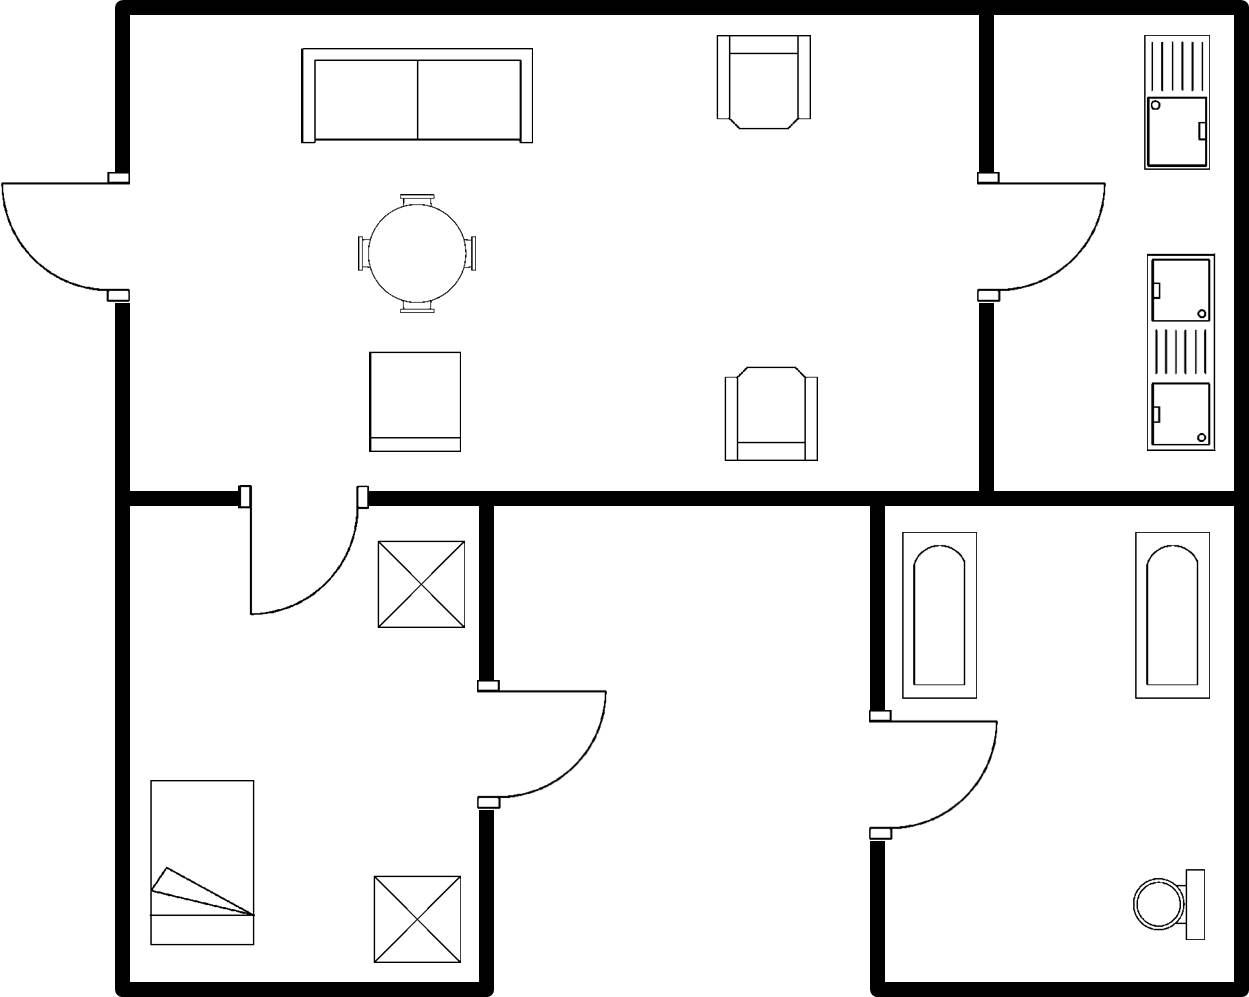armchair: (710, 29, 821, 139), (718, 360, 826, 468)
bed: (144, 769, 262, 953), (367, 865, 465, 968)
coffee_table: (371, 535, 473, 636)
large_sink: (1127, 862, 1215, 947)
large_sofa: (291, 41, 540, 151)
round_table: (345, 186, 486, 320)
sink: (1137, 30, 1220, 179)
small_sofa: (362, 345, 467, 459)
tub: (1128, 524, 1217, 706), (896, 527, 985, 707)
twin_sink: (1140, 246, 1224, 459)
